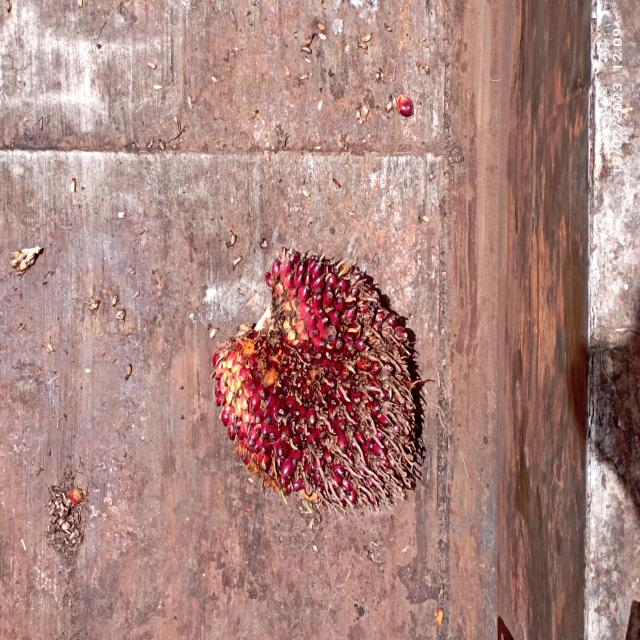fraksi 3: (206, 199, 432, 540)
